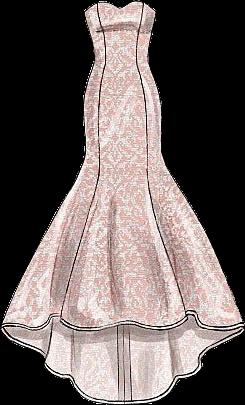Bodice: (84, 1, 155, 65)
Hemline: (0, 310, 244, 331)
Neckline: (83, 0, 156, 12)
Skirt: (2, 66, 243, 403)
